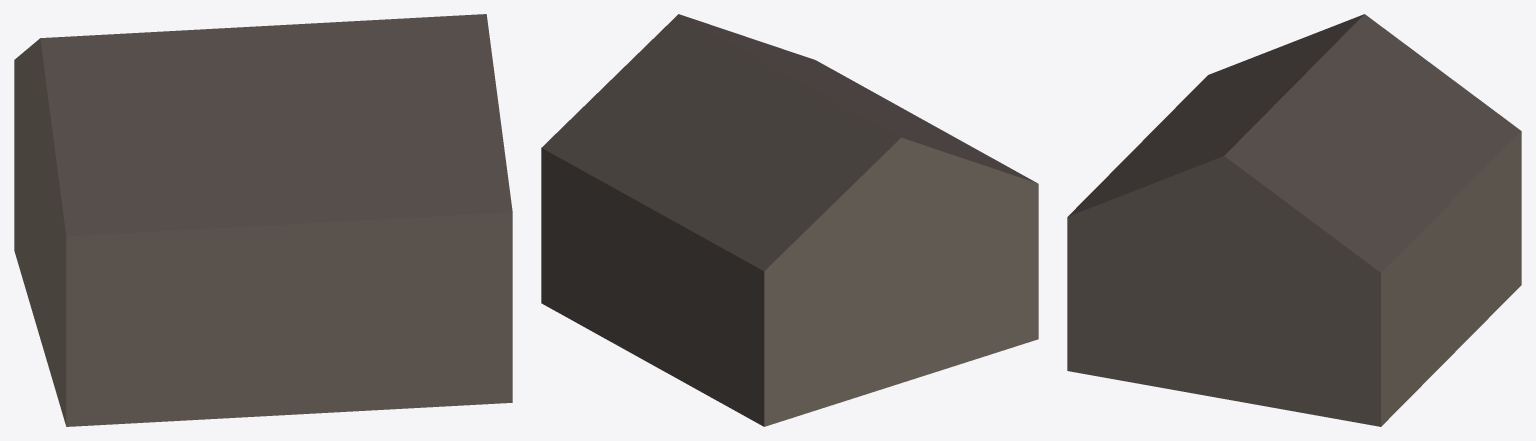
The picture shows the model from 3 angles, left to right: view 1: azimuth 30°, elevation 25°; view 2: azimuth 150°, elevation 25°; view 3: azimuth 270°, elevation 25°; orthographic projection. The views are drawn at different scales.
Visible parts, largest first — view 1: HP-w1286966216; view 2: HP-w1286966216; view 3: HP-w1286966216.
Part boxes in pixels (left/top/right/bottom): HP-w1286966216: left=14, top=14, right=512, bottom=426; HP-w1286966216: left=541, top=14, right=1038, bottom=426; HP-w1286966216: left=1067, top=14, right=1521, bottom=426.
Size of the model in its own units: 24.79 by 14.2 by 24.05.
